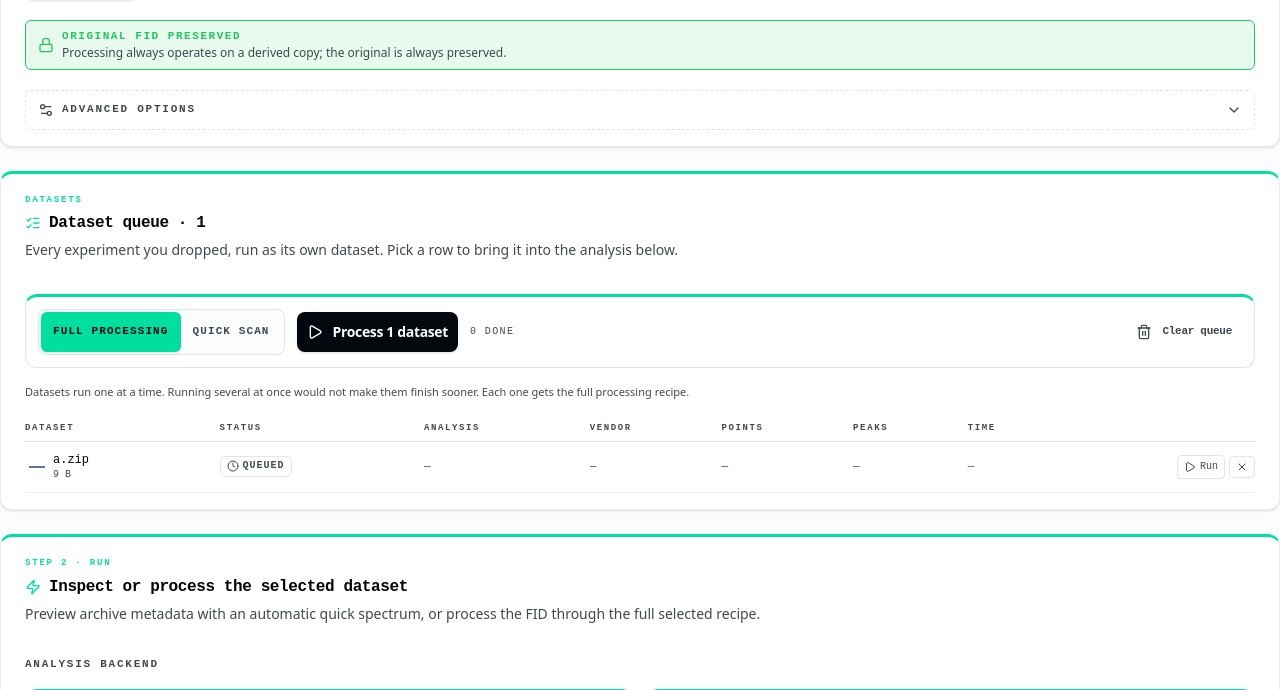
it: running the queue › re-runs a single dataset without touching the others
Earlier steps of the test are not shown.
(page scrolled)
Click the button with test id "raw-fid-queue-run-all" at (377,332), box [296,312,458,352]
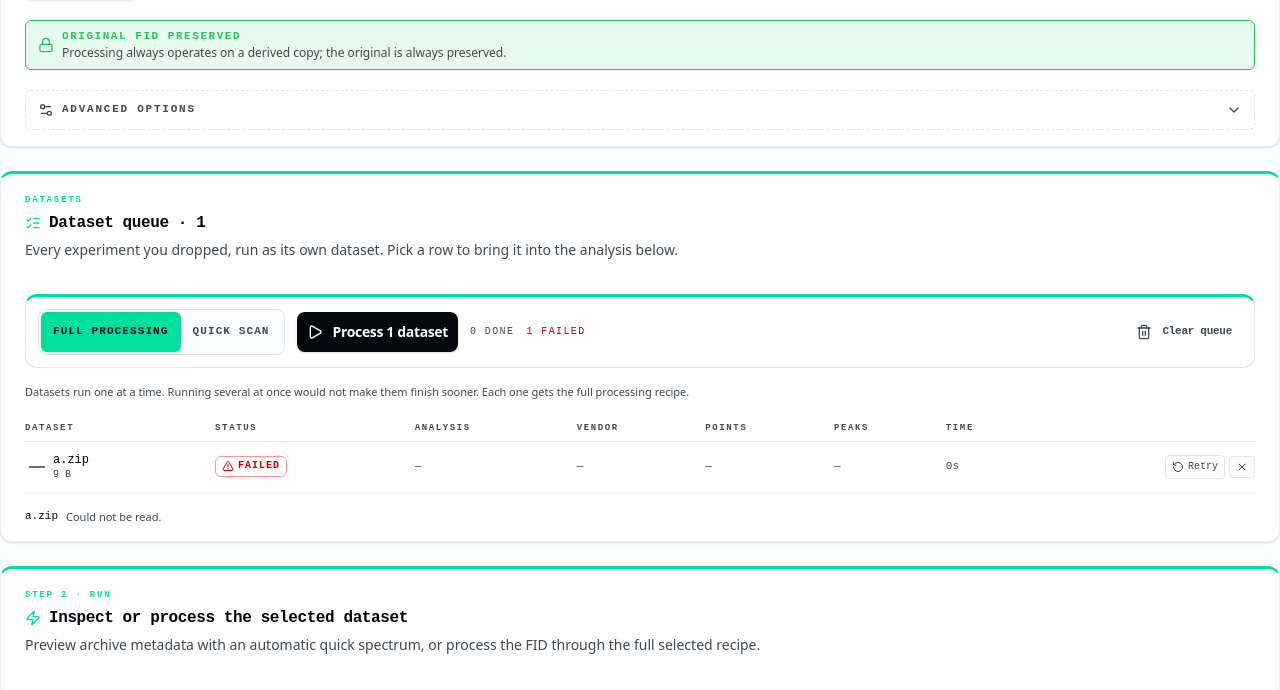
Check: the text "Failed" is shown, box [215,456,287,477]
Click the button with aria-label "Retry a.zip" at (1195,467), box [1165,455,1225,479]
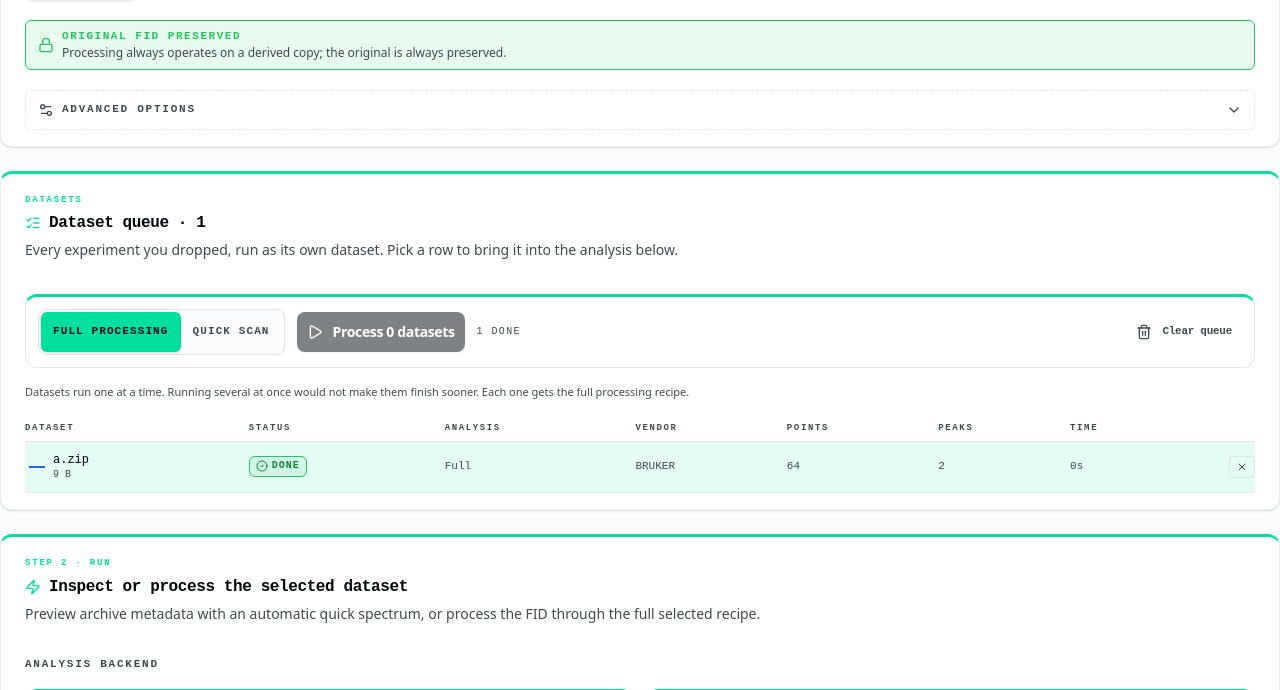
Check: the text "Done" is shown, box [249,456,307,477]
